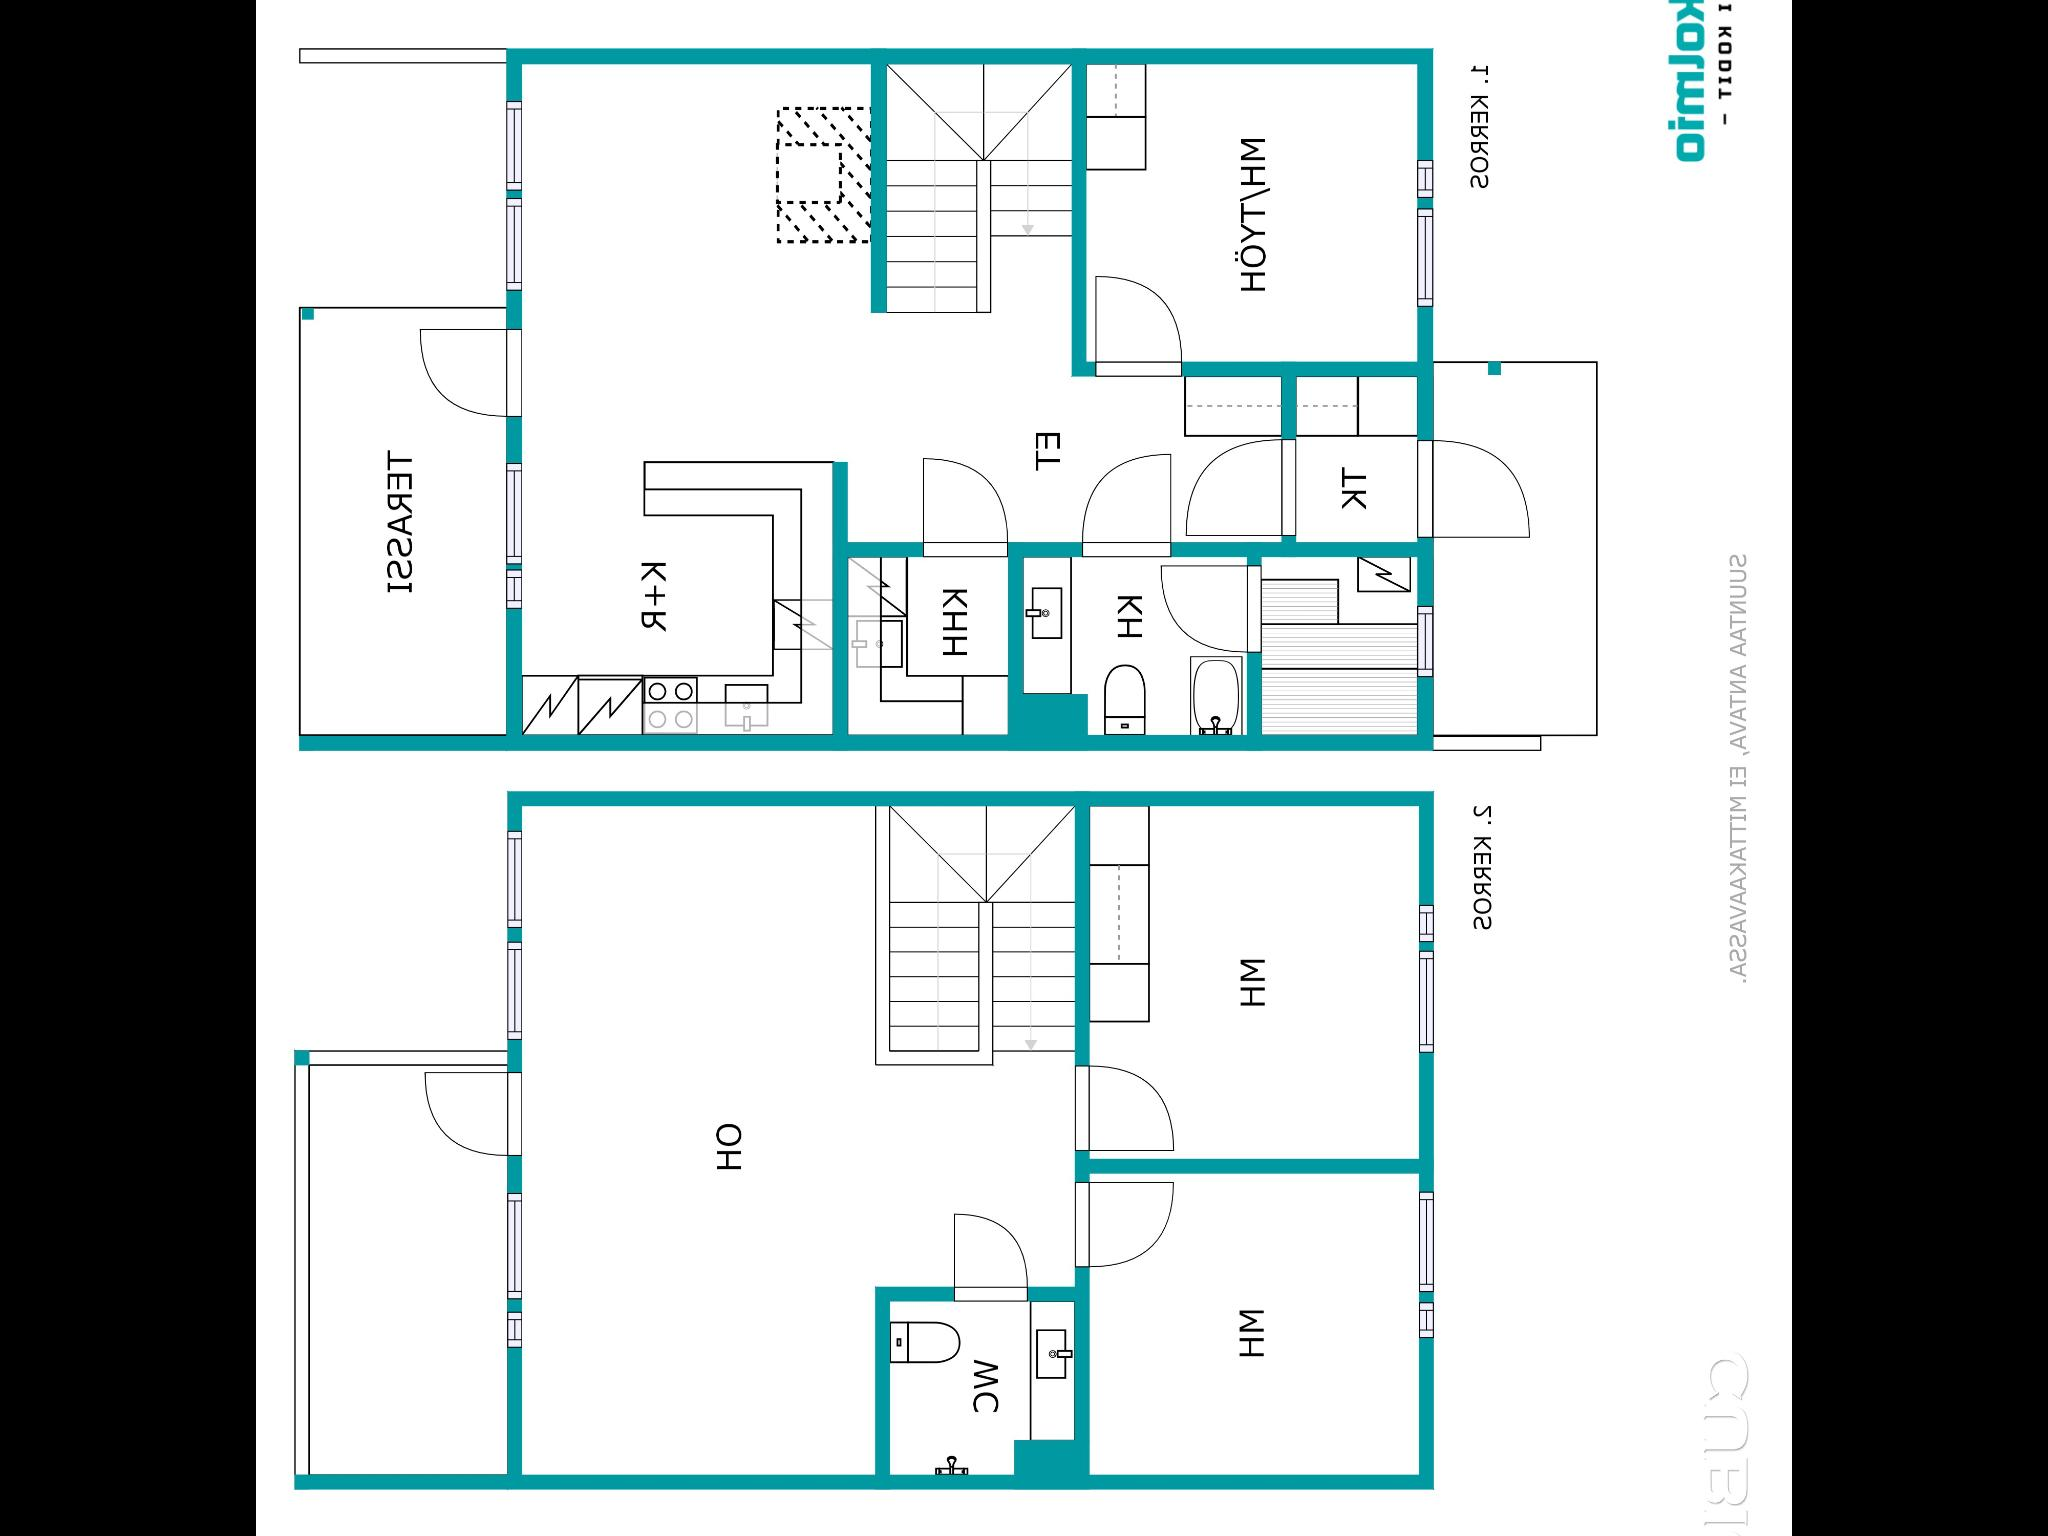bathroom: (1022, 557, 1251, 739), (887, 1294, 1071, 1473)
door: (1408, 429, 1540, 547), (1182, 426, 1297, 545), (1063, 1170, 1185, 1275), (411, 313, 527, 421), (1061, 1058, 1188, 1157), (1072, 445, 1176, 563), (1153, 558, 1269, 657), (419, 1065, 526, 1170), (1085, 268, 1179, 381), (913, 452, 1009, 558), (947, 1204, 1027, 1317)
perimeter: (500, 42, 1442, 752), (502, 783, 1443, 1489)
stairs: (884, 807, 982, 1063), (885, 63, 982, 313), (980, 807, 1077, 1049), (982, 63, 1071, 232)
window: (498, 1178, 540, 1305), (489, 815, 531, 939), (1406, 1176, 1443, 1305), (1405, 937, 1442, 1065), (502, 455, 540, 573), (487, 194, 534, 289), (495, 84, 529, 203), (502, 923, 534, 1046), (1409, 197, 1442, 316), (1413, 595, 1442, 689), (1413, 1291, 1447, 1349), (1409, 145, 1442, 205), (500, 558, 534, 615), (1409, 892, 1442, 947), (502, 1300, 534, 1354)
